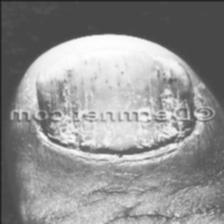Toxin: (43, 55, 191, 149)
